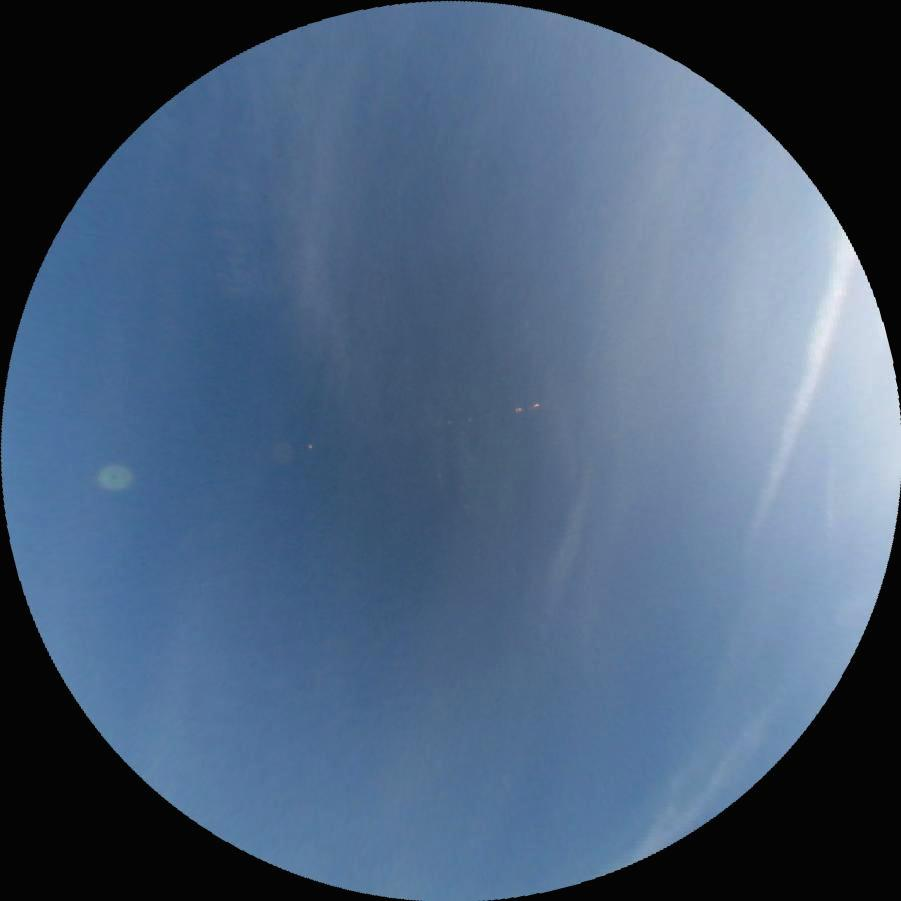contrail veryold: (743, 228, 860, 550)
